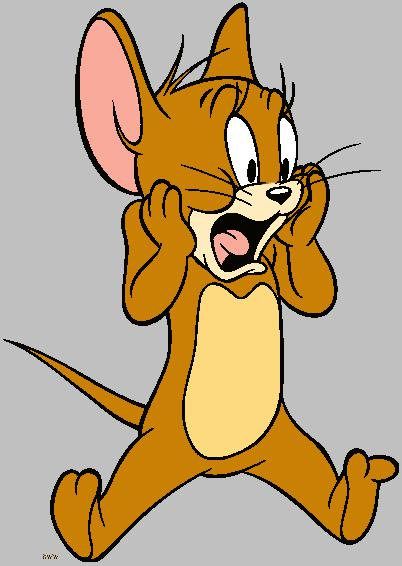jerry: (4, 4, 398, 557)
